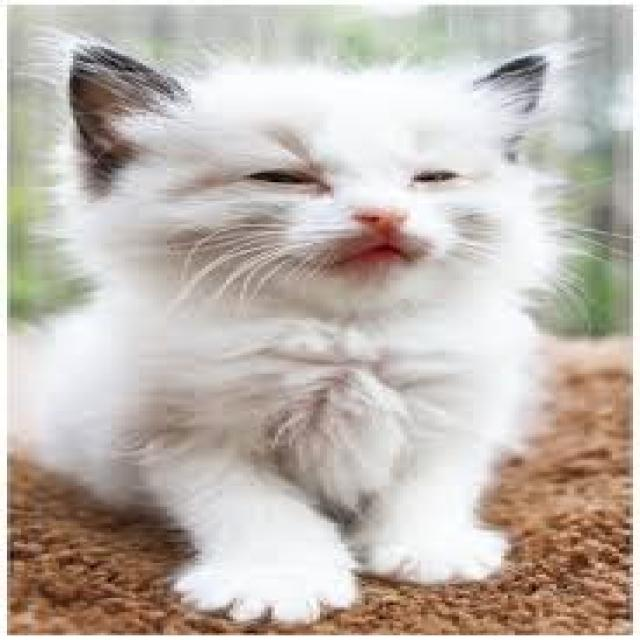Cat: (0, 35, 609, 629)
